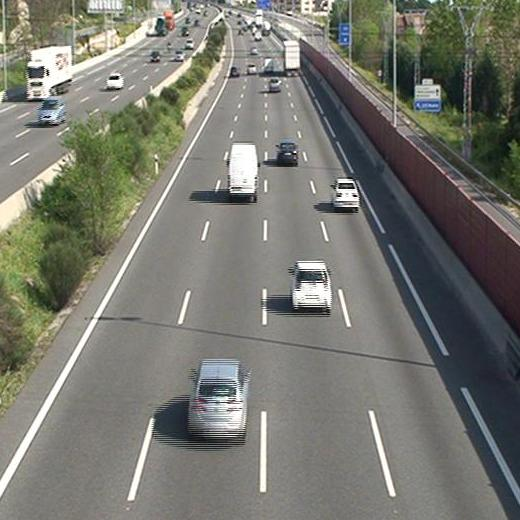car: (187, 360, 250, 438), (291, 262, 332, 308), (332, 179, 358, 210), (276, 141, 299, 163), (268, 77, 281, 91), (245, 63, 256, 74), (229, 65, 239, 76)
truck: (283, 41, 299, 74)
van: (229, 142, 258, 198), (264, 56, 273, 72)
